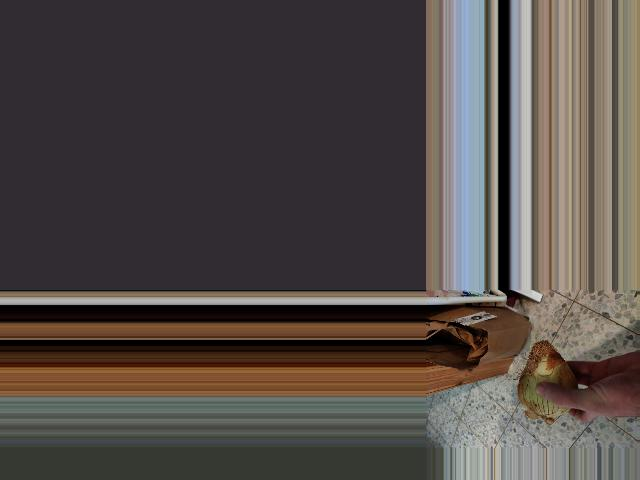onion: (515, 339, 581, 423)
